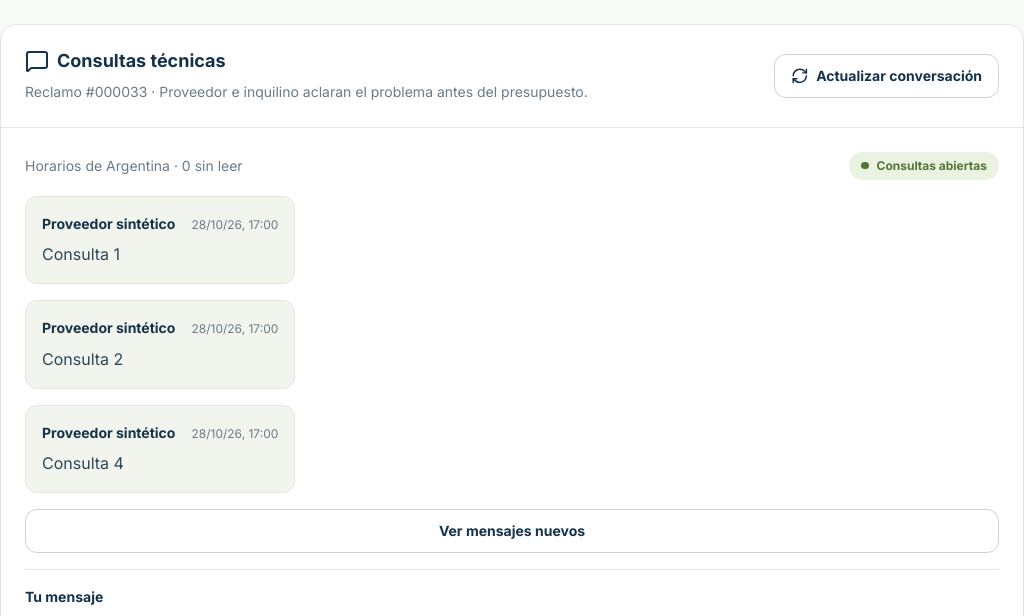
Scenario: conversación privada HU33 › avanza sólo por secuencias contiguas aunque una respuesta venga incompleta
Click the button "Ver mensajes nuevos".
click(512, 531)  # box x1=25 y1=509 x2=999 y2=553
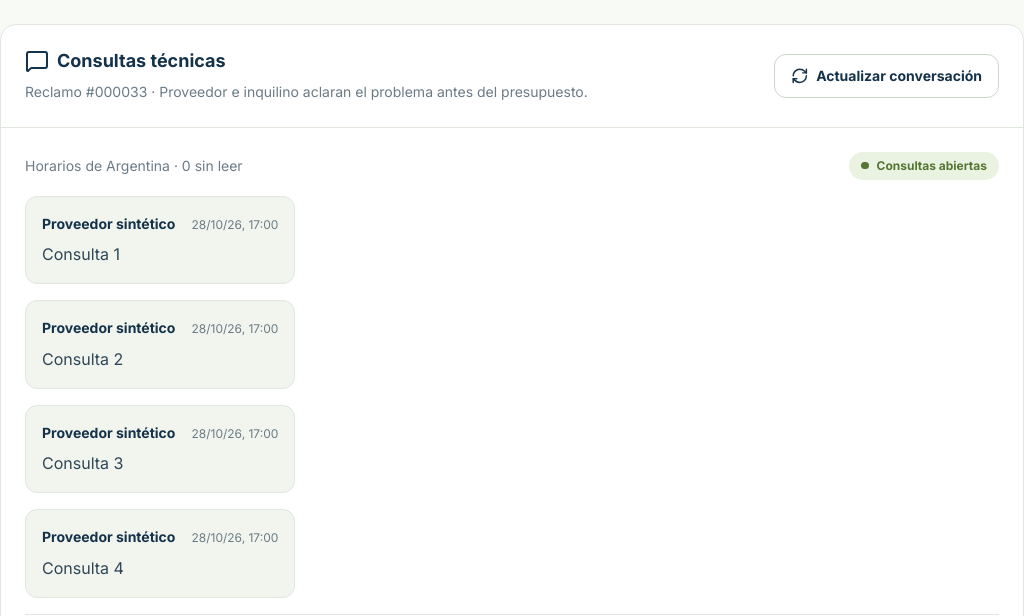
Now the text "Consulta 3" is shown, box x1=42 y1=453 x2=123 y2=473
